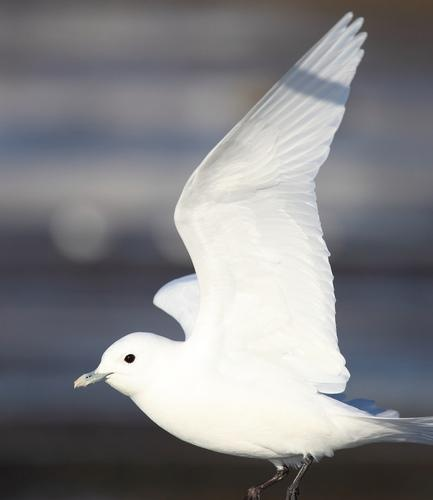bird: (72, 18, 391, 491)
